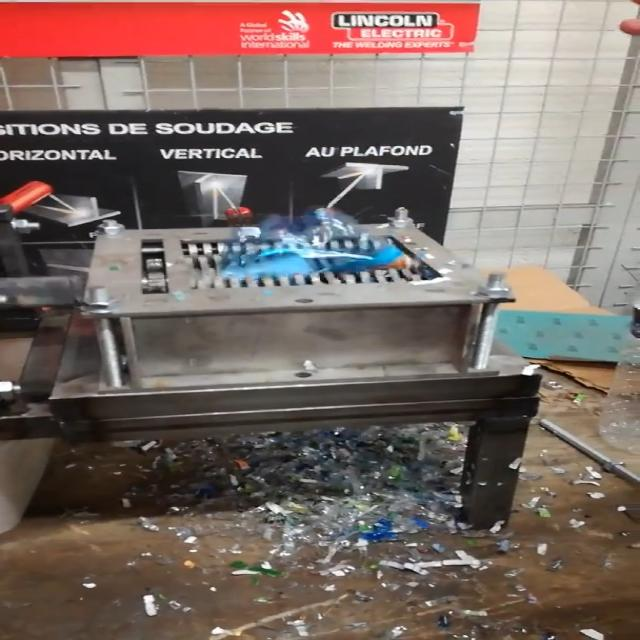Broyeur: (59, 222, 512, 313)
